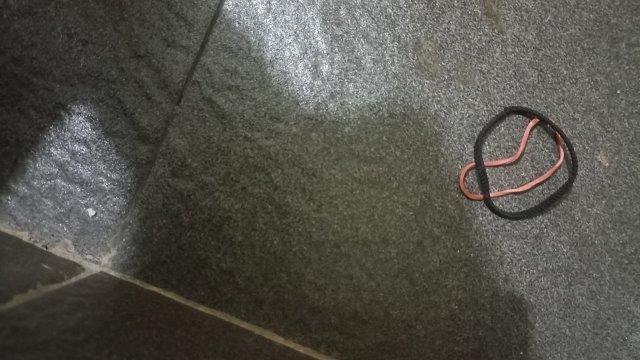karet: (459, 105, 580, 222)
